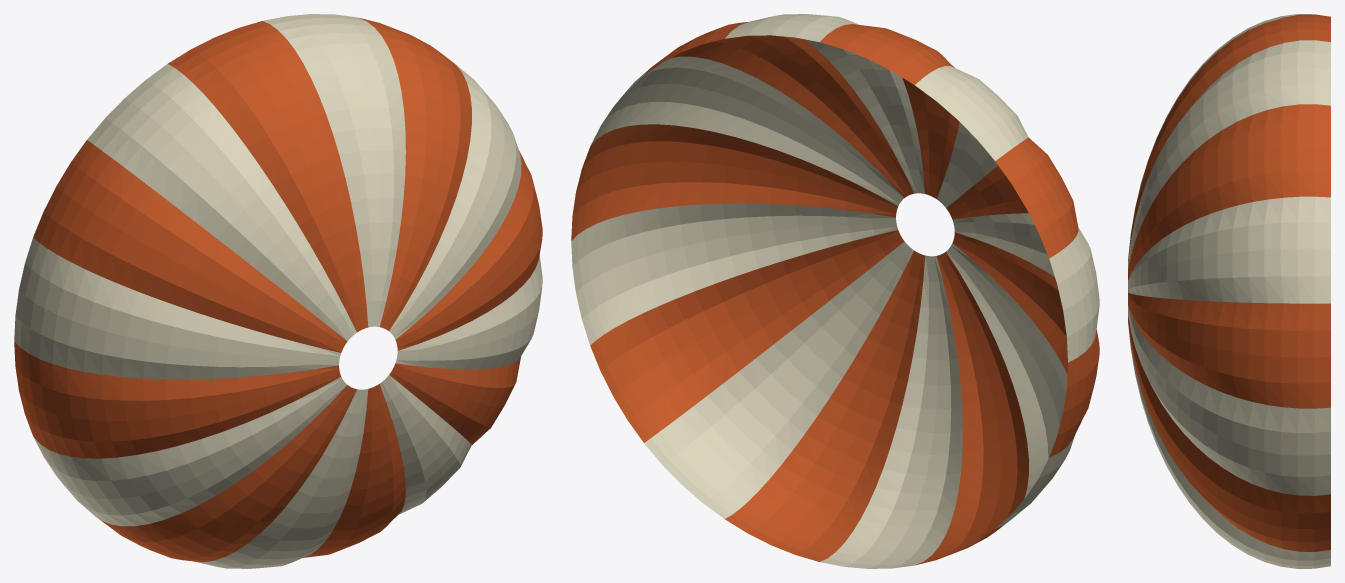
The model's file is parachute_full.obj.
The picture shows the model from 3 angles, left to right: view 1: azimuth 30°, elevation 25°; view 2: azimuth 150°, elevation 25°; view 3: azimuth 270°, elevation 25°; orthographic projection. The views are drawn at different scales.
Visible parts, largest first — view 1: parachute_full; view 2: parachute_full; view 3: parachute_full.
Boxes of the visible parts, <box> form: parachute_full: <box>14,14,542,568</box>; parachute_full: <box>571,14,1099,568</box>; parachute_full: <box>1128,14,1330,568</box>.
Size of the model in its own units: 2.39 by 2.39 by 0.8748.
